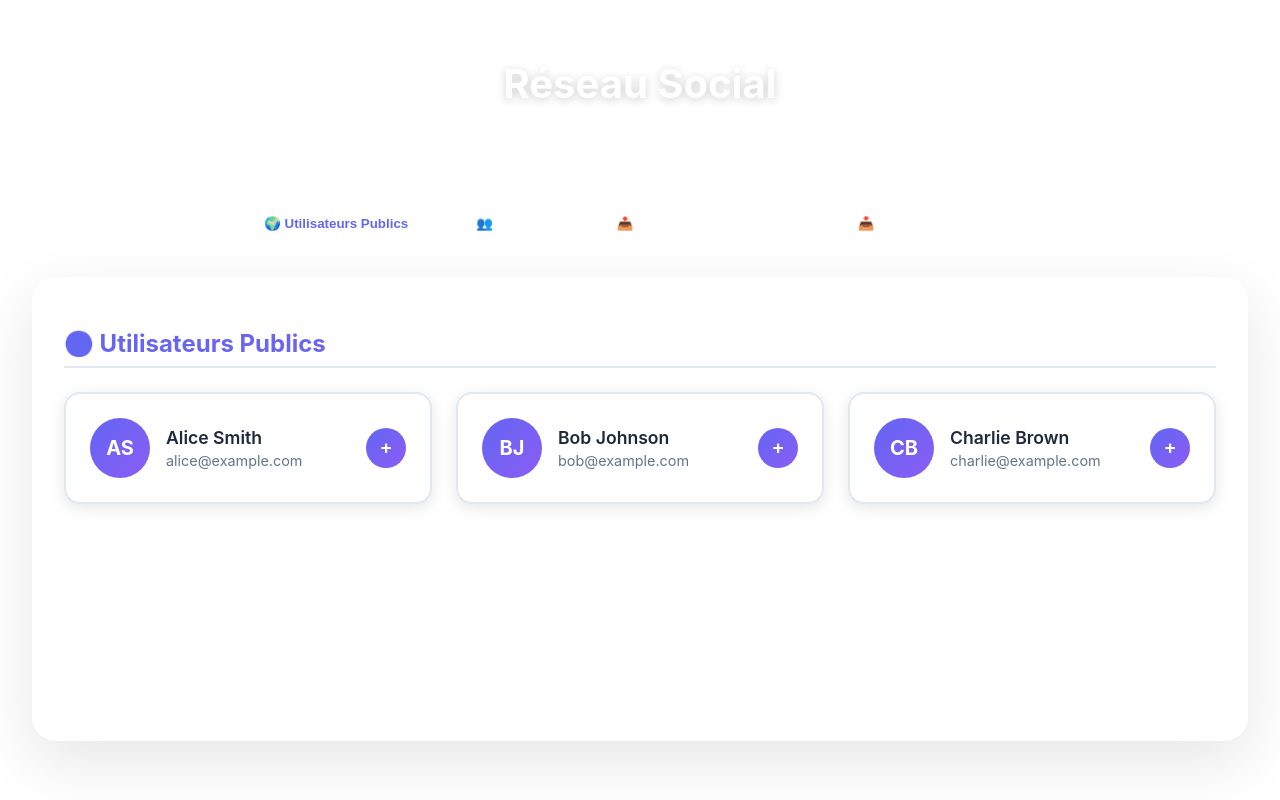
Scenario: Profil Component › onglet Invitations Envoyées → affiche Emma Watson
expect the heading "Alice Smith" is shown: met, box [166,427,262,448]
What coordinates should you click on to do the following:
click the button "📤 Invitations Envoyées (1)"
I would click on:
 (703, 223)
Its box is [591,202,816,245].
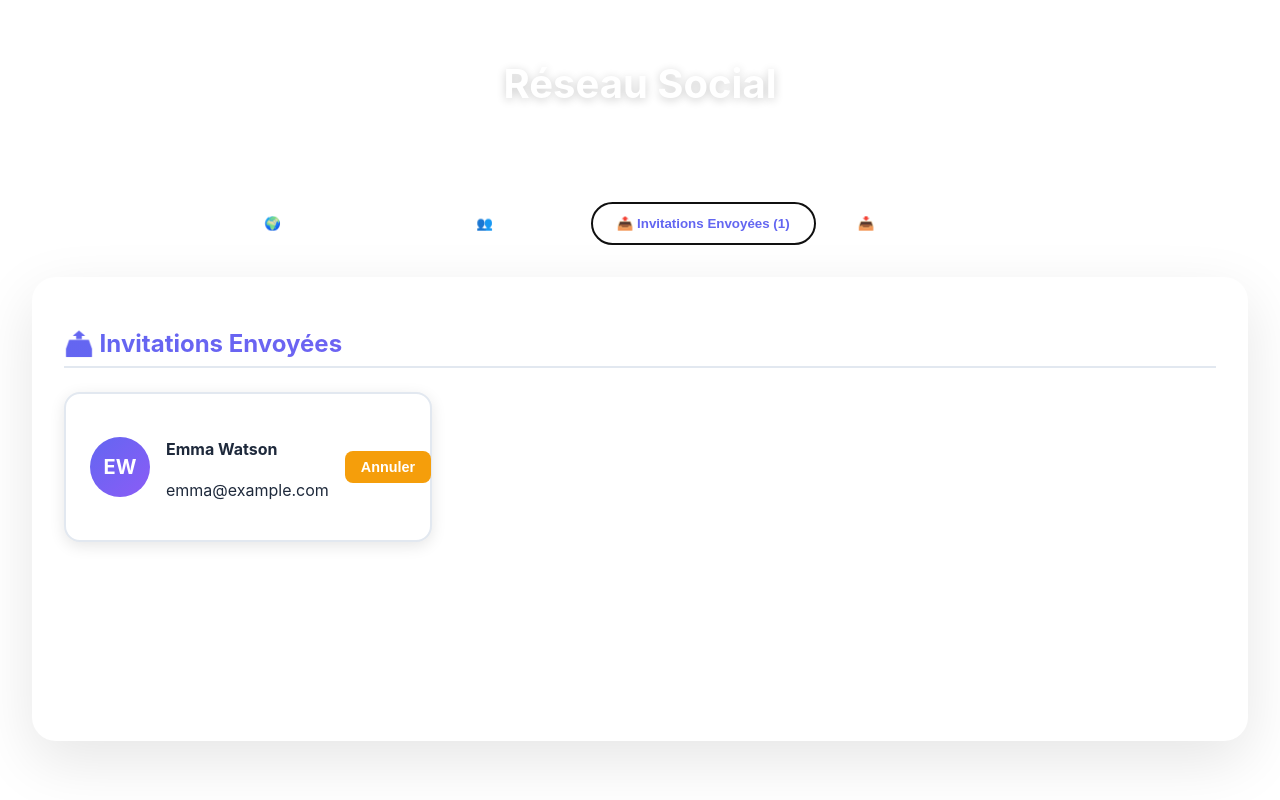
expect the heading "Emma Watson" is shown: met, box [166,439,278,459]
